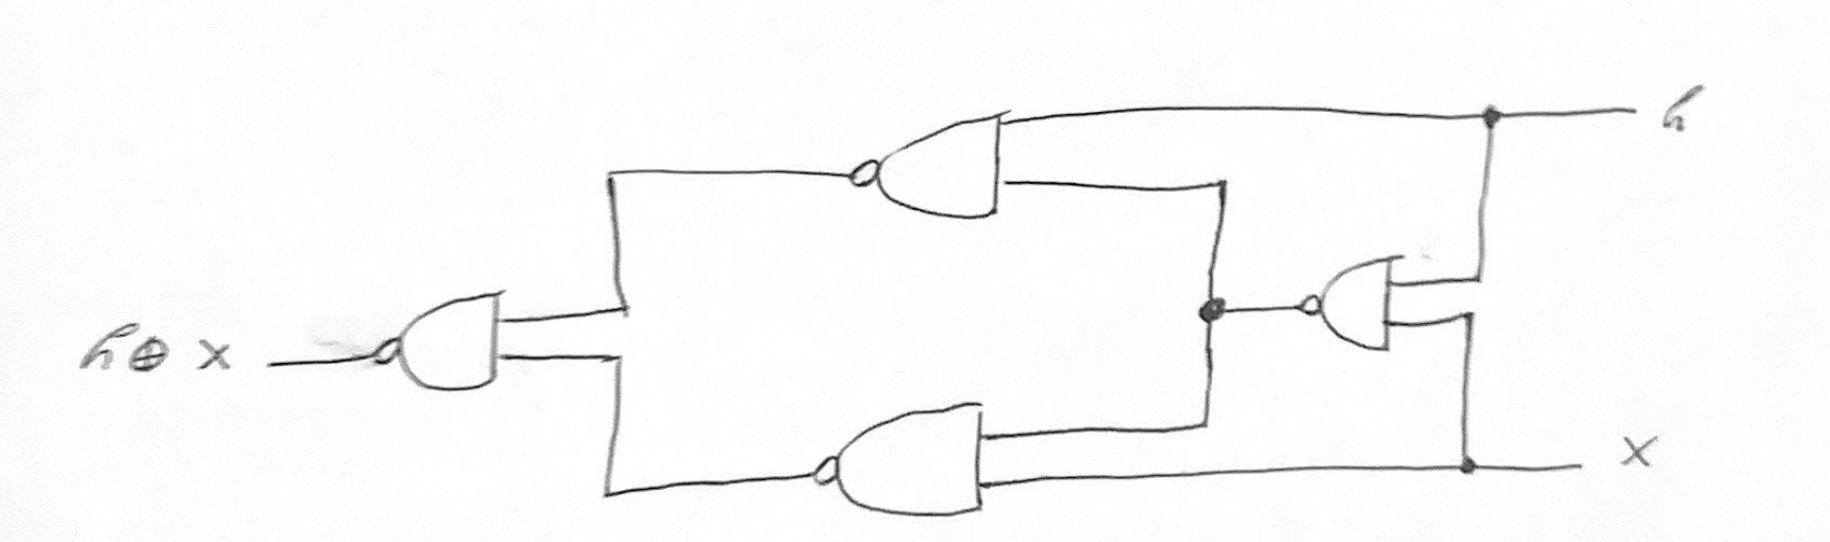NAND: (785, 394, 1007, 529), (840, 98, 1028, 235), (354, 286, 537, 401), (1284, 244, 1422, 361)
